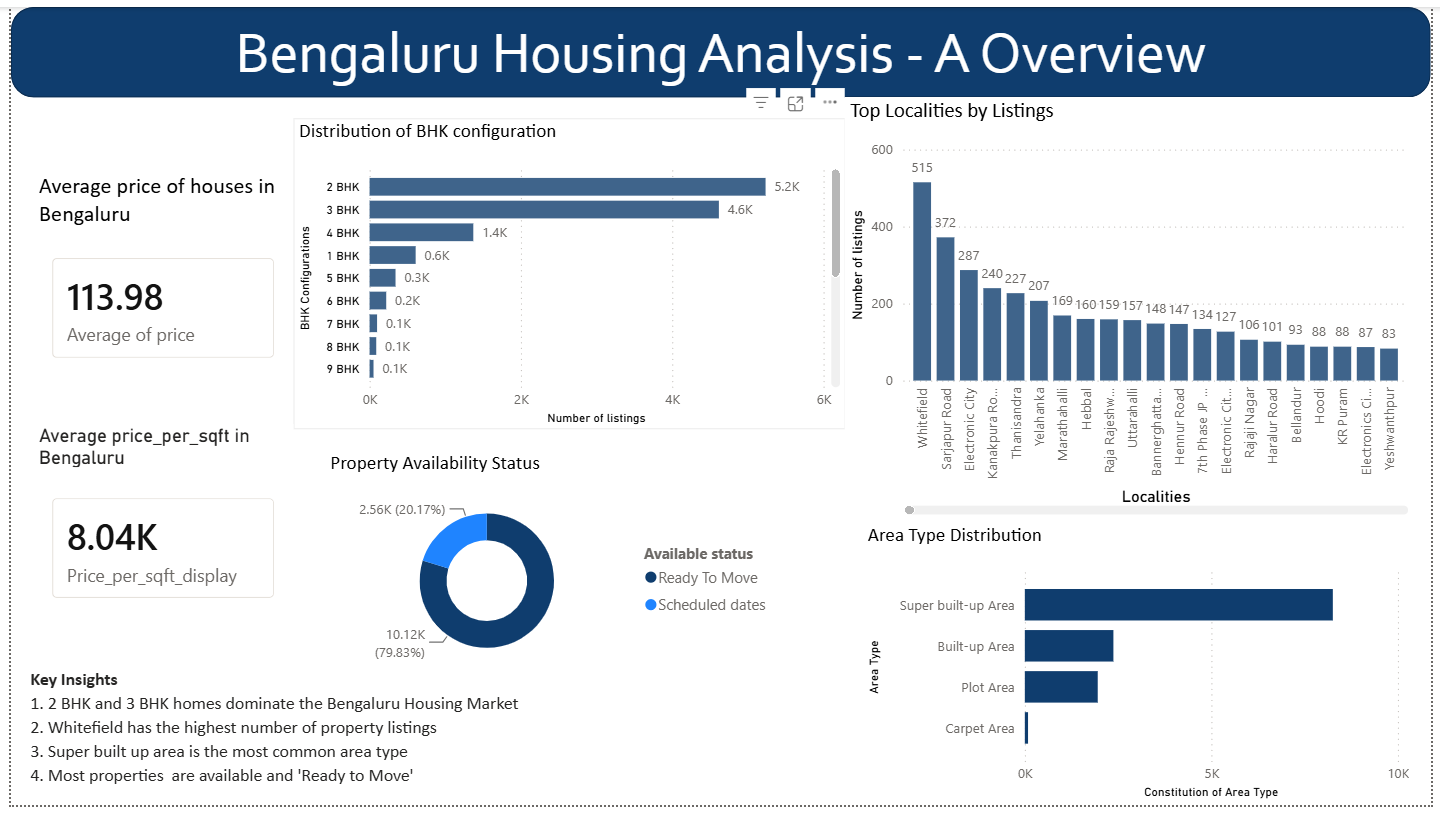

Layout of this report page (visuals, bound fields, positions):
{"tool":"powerbi","page":{"name":"Dashboard overview","canvas":[1280,720],"ordinal":0},"visuals":[{"type":"shape","box":[0,0,1280,81.5],"z":0},{"type":"textbox","box":[10,212,1270,150],"z":1000},{"type":"cardVisual","title":"     Average price-persqft in Bengaluru","box":[845.3,172.9,435.4,177.9],"z":2000},{"type":"cardVisual","title":"Average price of houses in Bengaluru","fields":{"Data":["Avg(house benagluru_house_date_cleaneddataset (2).price)"]},"box":[20,148.7,234.6,185.2],"z":3000},{"type":"clusteredBarChart","title":"Distribution of BHK configuration","fields":{"Category":["house benagluru_house_date_cleaneddataset (2).Sizes"],"Y":["CountNonNull(house benagluru_house_date_cleaneddataset (2).Sizes)"]},"box":[254.6,100.1,498.1,281.3],"z":4000},{"type":"barChart","title":"Area Type Distribution","fields":{"Category":["house benagluru_house_date_cleaneddataset (2).area_type"],"Y":["CountNonNull(house benagluru_house_date_cleaneddataset (2).area_type)"]},"box":[768,464.8,498.2,254.7],"z":5000},{"type":"columnChart","title":"Top Localities by Listings","fields":{"Category":["house benagluru_house_date_cleaneddataset (2).location"],"Y":["CountNonNull(house benagluru_house_date_cleaneddataset (2).availability)"]},"box":[752.3,81.5,513.2,381.5],"z":6000},{"type":"donutChart","title":"Property Availability Status","fields":{"Category":["house benagluru_house_date_cleaneddataset (2).Available status"],"Y":["CountNonNull(house benagluru_house_date_cleaneddataset (2).Available status)"]},"box":[283.2,400.4,411.7,201.7],"z":7000},{"type":"cardVisual","title":"Average price_per_sqft in Bengaluru","fields":{"Data":["house benagluru_house_date_cleaneddataset (2).Price_per_sqft_display"]},"box":[20,376.1,234.6,174.3],"z":8000},{"type":"textbox","box":[12.9,592.1,696.5,127.3],"z":8001}]}

Visuals, with their boxes in screenshot pixels (x1, y1, x2, y2), scaled from the page's 1280x720 canvas onto the 1440x815 screenshot:
shape: 0:0:1439:92
textbox: 11:240:1439:410
"     Average price-persqft in Bengaluru" cardVisual: 951:196:1439:397
"Average price of houses in Bengaluru" cardVisual: 22:168:286:378
"Distribution of BHK configuration" clusteredBarChart: 286:113:847:432
"Area Type Distribution" barChart: 864:526:1424:814
"Top Localities by Listings" columnChart: 846:92:1424:524
"Property Availability Status" donutChart: 319:453:782:682
"Average price_per_sqft in Bengaluru" cardVisual: 22:426:286:623
textbox: 15:670:798:814
